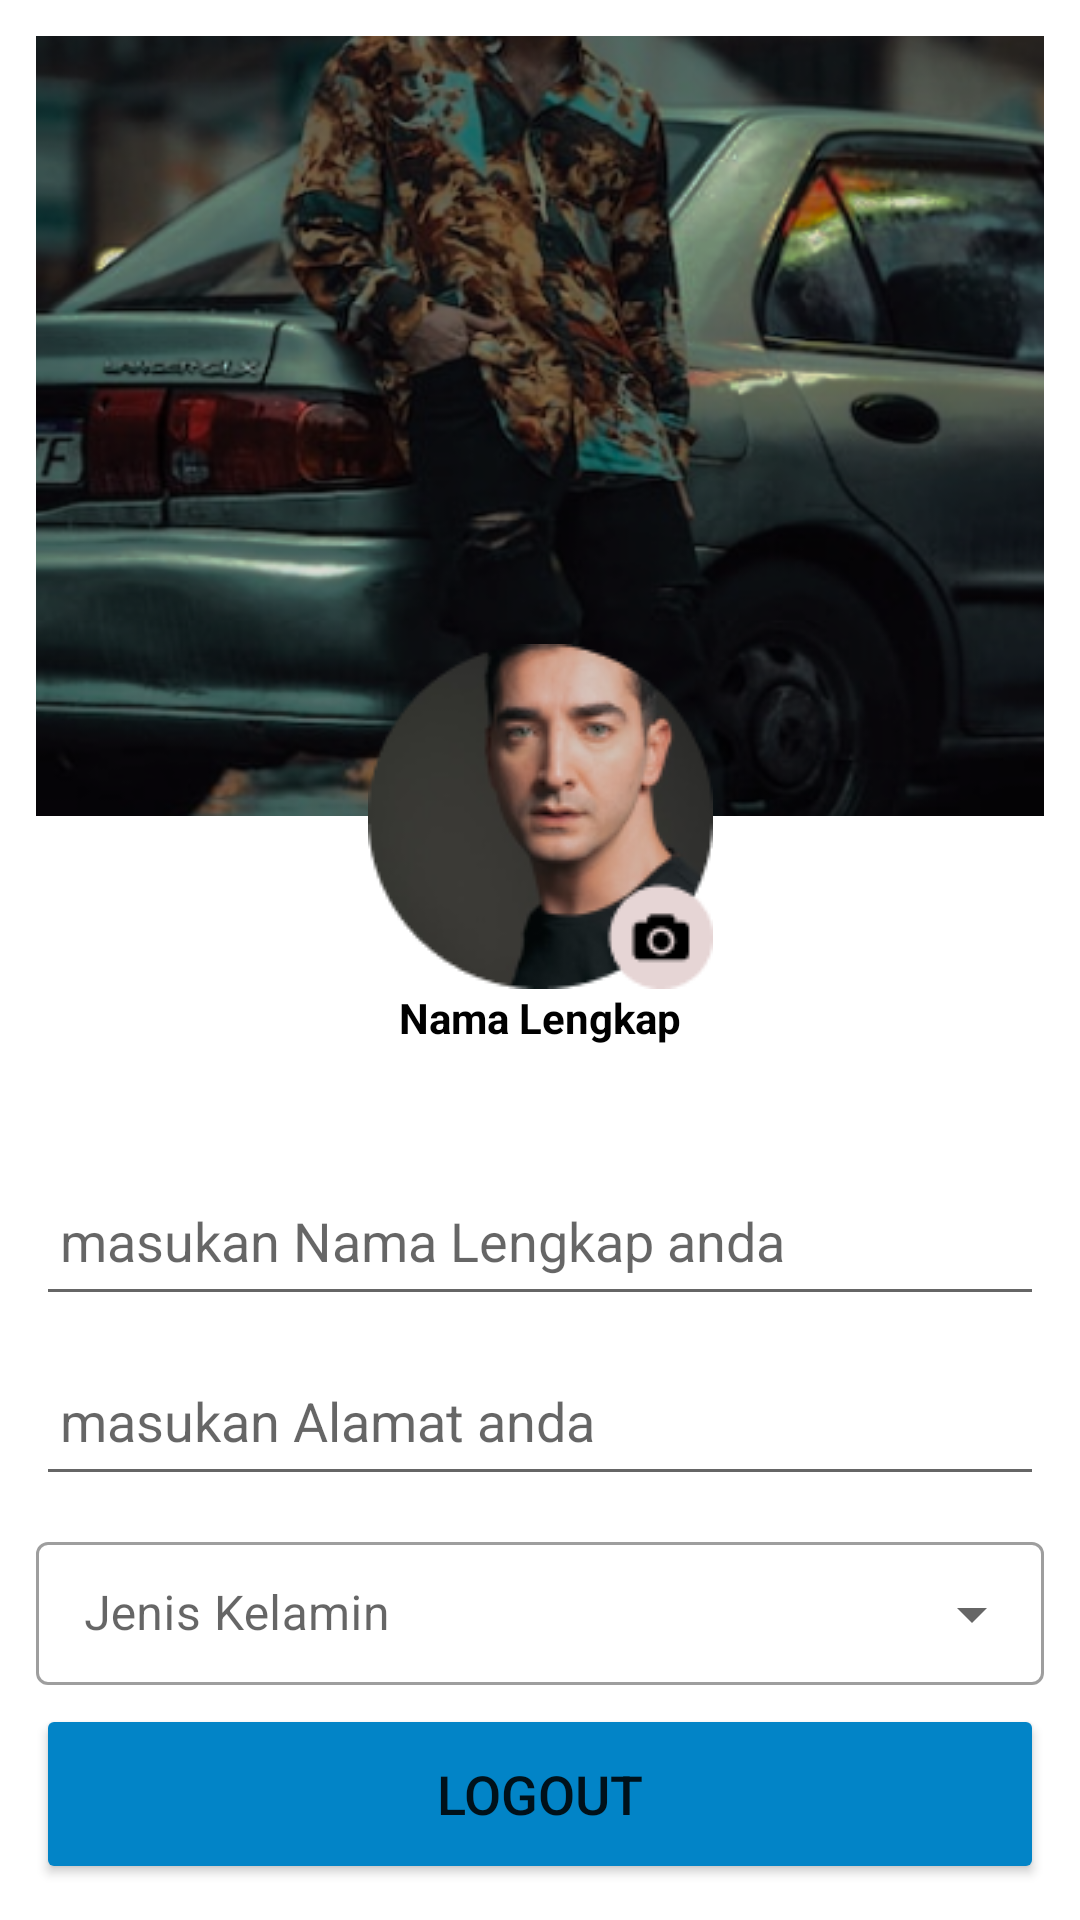

Where to tap for icons on this 1080*1920 app screen, as (x,y):
poto: (540,816)
